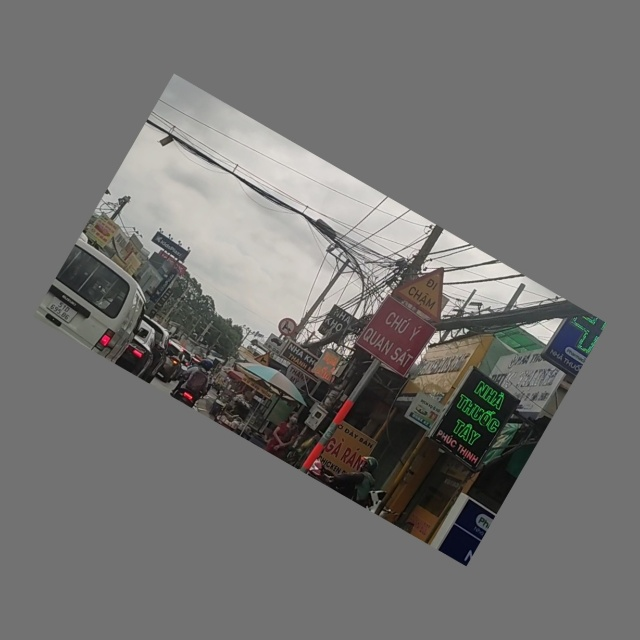P.139: (271, 310, 306, 345)
S.505a*Xe tai: (262, 333, 288, 357)
W.205b: (248, 345, 280, 373)
W.245a: (387, 250, 472, 330)
